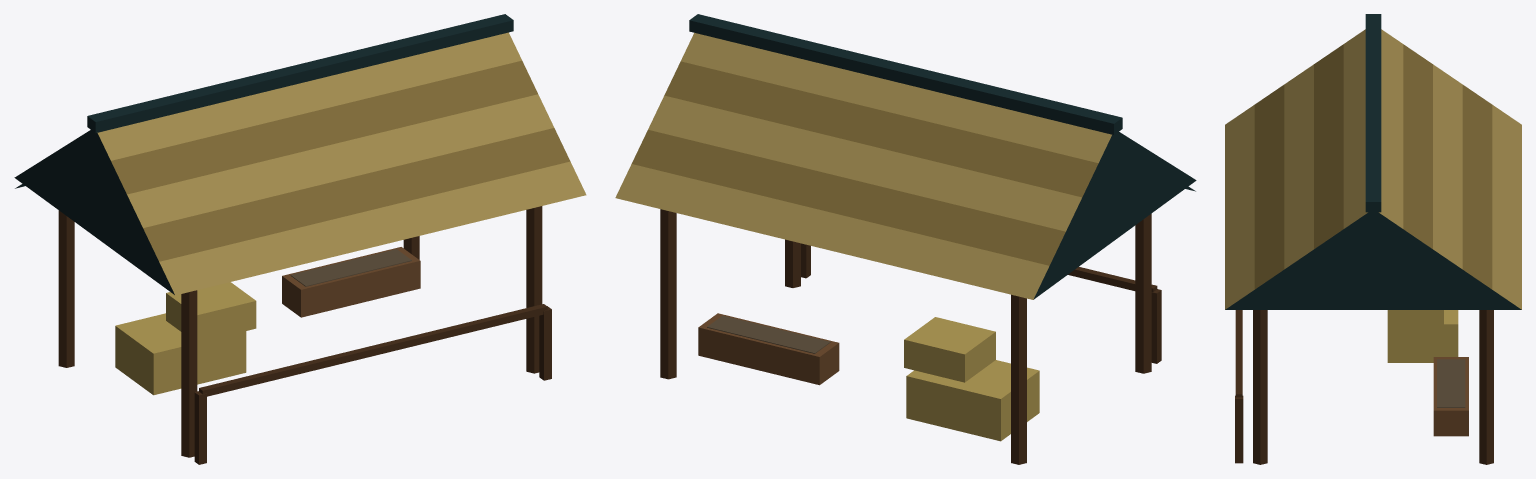
Rendered from horse-stable.glb.
The picture shows the model from 3 angles, left to right: view 1: azimuth 30°, elevation 25°; view 2: azimuth 150°, elevation 25°; view 3: azimuth 270°, elevation 25°; orthographic projection. The views are drawn at different scales.
Parts seen in each view (by area): view 1: horse-stable; view 2: horse-stable; view 3: horse-stable.
Part boxes in pixels (box(x1,y1,x2,y2)): horse-stable: box(14, 14, 586, 464); horse-stable: box(615, 14, 1196, 464); horse-stable: box(1225, 14, 1521, 464).
Bounding box in the file's own units: 6.3 × 4.3 × 4.2.
